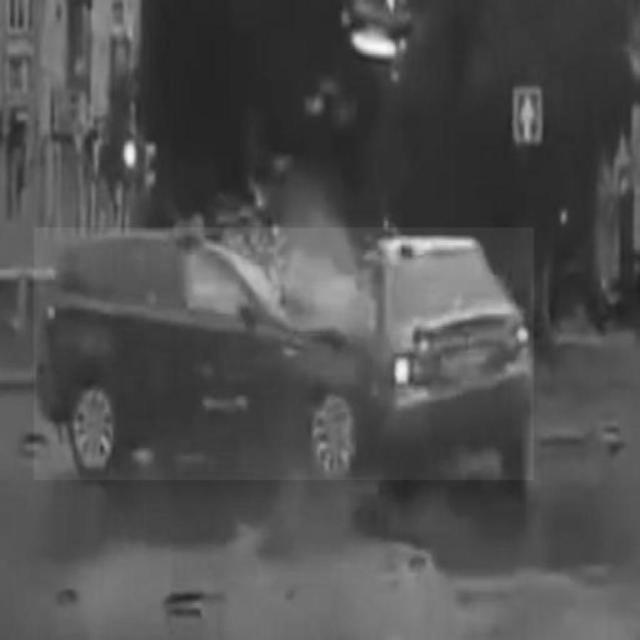accident: (34, 227, 534, 479)
